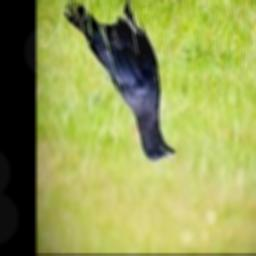Crow: (65, 0, 176, 161)
